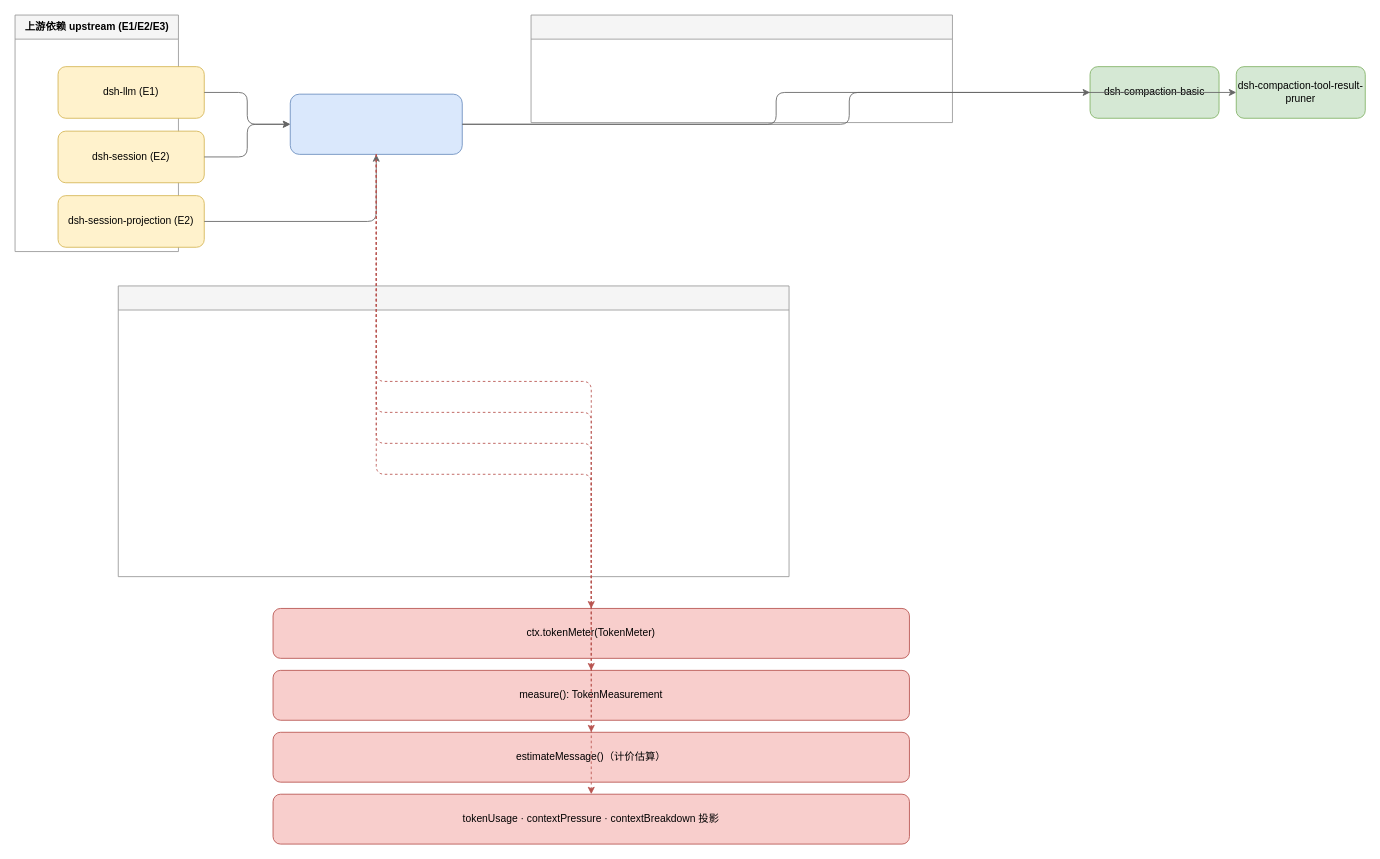
This 1380x859 diagram has some shape labels left out. Here are the shapes that lost their labels. From the top down, the centre of each, then its label:
point (741, 68): 下游被依赖 dependents
point (375, 123): @deepseek-ai/dsh-token-meter
point (453, 431): 提供服务 provides（关键项）
